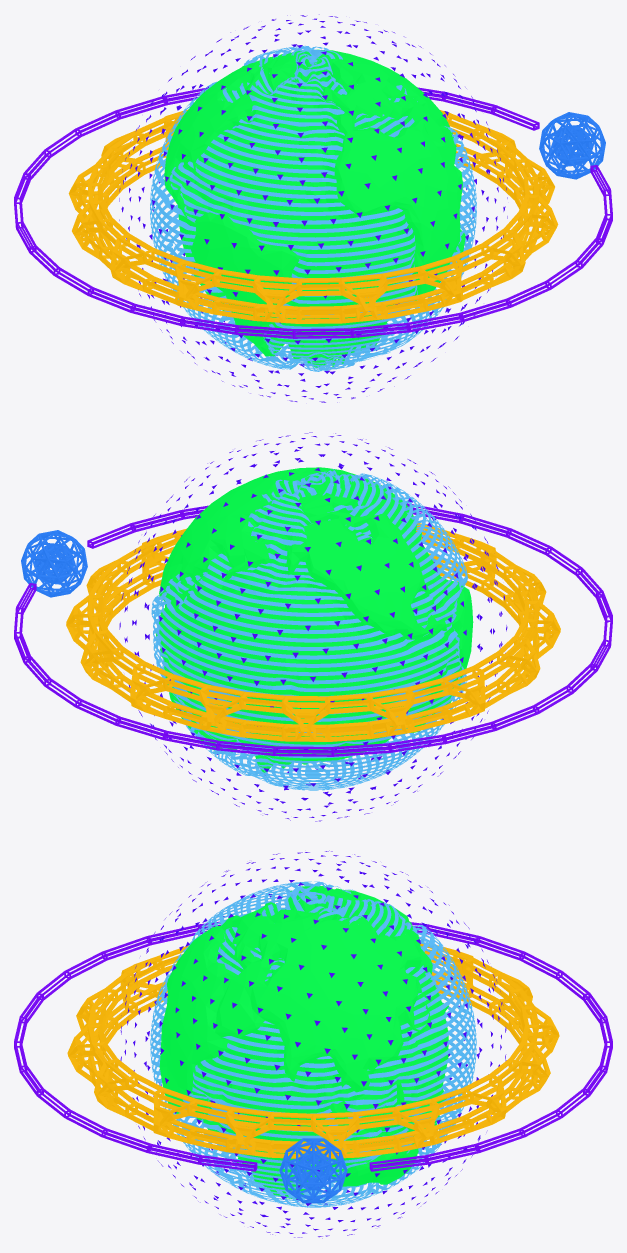
File: Hologram.glb
The picture shows the model from 3 angles, top to bottom: view 1: azimuth 30°, elevation 25°; view 2: azimuth 150°, elevation 25°; view 3: azimuth 270°, elevation 25°; orthographic projection.
Parts seen in each view (by area): view 1: TERRE1, Circle.643, Sphere.002, Circle, Circle.455, Icosphere.002; view 2: TERRE1, Sphere.002, Circle.643, Circle, Circle.455, Icosphere.002; view 3: TERRE1, Circle.643, Sphere.002, Circle, Circle.455, Icosphere.002.
Part boxes in pixels (x1=…): TERRE1: x1=164, y1=49, x2=465, y2=367; Circle.643: x1=68, y1=109, x2=558, y2=323; Sphere.002: x1=150, y1=45, x2=476, y2=371; Circle: x1=14, y1=87, x2=612, y2=338; Circle.455: x1=119, y1=14, x2=507, y2=402; Icosphere.002: x1=539, y1=112, x2=605, y2=179; TERRE1: x1=155, y1=467, x2=473, y2=772; Sphere.002: x1=151, y1=469, x2=467, y2=790; Circle.643: x1=66, y1=523, x2=560, y2=741; Circle: x1=14, y1=503, x2=612, y2=756; Circle.455: x1=119, y1=432, x2=507, y2=821; Icosphere.002: x1=21, y1=530, x2=87, y2=597; TERRE1: x1=159, y1=886, x2=448, y2=1198; Circle.643: x1=67, y1=943, x2=559, y2=1158; Sphere.002: x1=150, y1=881, x2=476, y2=1207; Circle: x1=14, y1=921, x2=612, y2=1171; Circle.455: x1=120, y1=850, x2=506, y2=1238; Icosphere.002: x1=279, y1=1138, x2=347, y2=1203.
Size of the model in its own units: 12.94 by 7.98 by 12.3.
